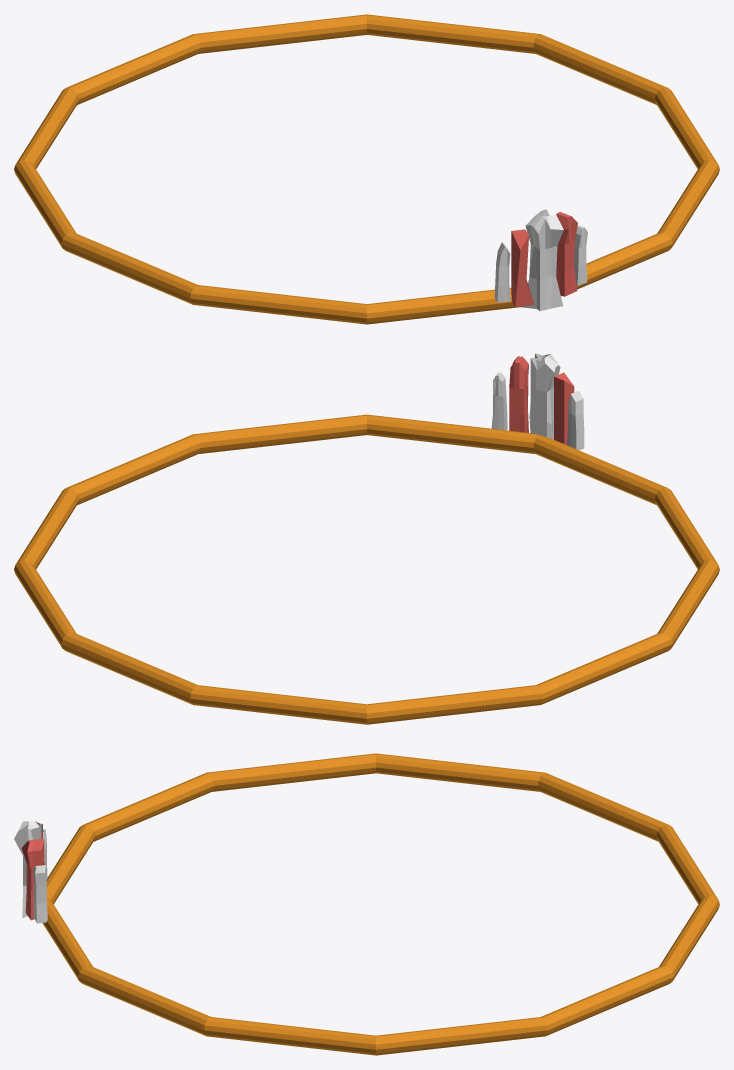
File: jagged gems.fbx
3 views of the same model, one above another, from view 1: azimuth 30°, elevation 25°; view 2: azimuth 150°, elevation 25°; view 3: azimuth 270°, elevation 25° (orthographic). The views are drawn at different scales.
Parts seen in each view (by area): view 1: jagged gems; view 2: jagged gems; view 3: jagged gems.
Boxes of the visible parts, x1,y1,x2,y2 form: jagged gems: (14,14,719,324); jagged gems: (14,353,719,724); jagged gems: (14,753,719,1055).
Size of the model in its own units: 120 by 17.06 by 117.
